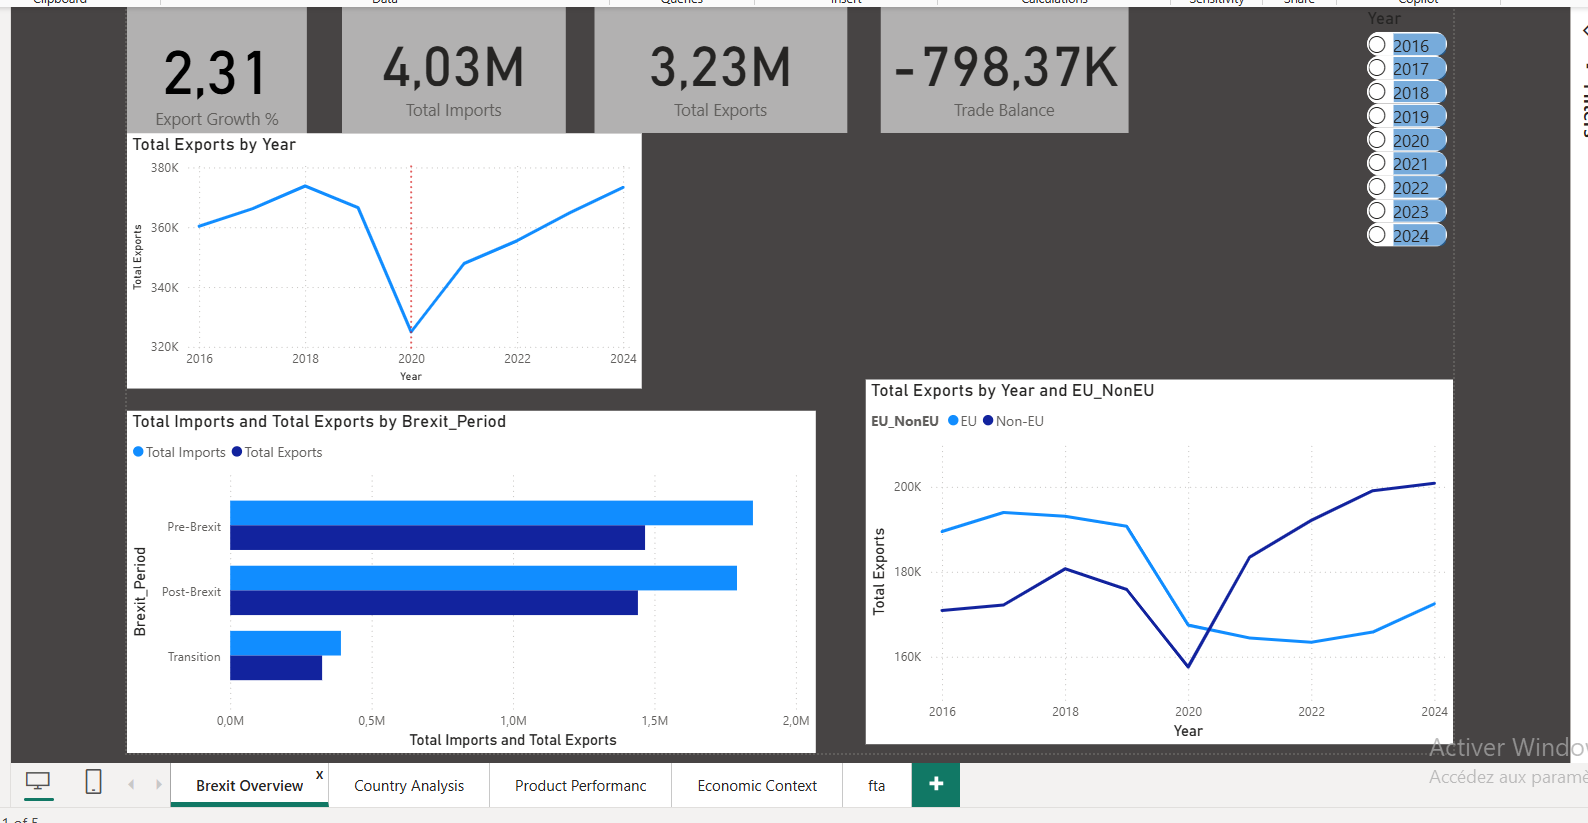

The page's visual inventory and layout, read from the dashboard file:
{"tool":"powerbi","page":{"name":"Brexit Overview","canvas":[1280,720],"ordinal":0},"visuals":[{"type":"card","fields":{"Values":["richlist table1_trade_by_country.Export Growth %"]},"box":[0,0,173.7,121.9],"z":0},{"type":"card","fields":{"Values":["richlist table1_trade_by_country.Total Exports"]},"box":[676.8,1.2,243.7,121.9],"z":1000},{"type":"card","fields":{"Values":["richlist table1_trade_by_country.Total Imports"]},"box":[347.5,1.2,216,121.9],"z":2000},{"type":"card","fields":{"Values":["richlist table1_trade_by_country.Trade Balance"]},"box":[1041.2,0,238.9,121.9],"z":3000},{"type":"lineChart","fields":{"Category":["richlist table1_trade_by_country.Year"],"Y":["richlist table1_trade_by_country.Total Exports"]},"box":[0,143.6,798.7,246.1],"z":4000},{"type":"lineChart","fields":{"Category":["richlist table1_trade_by_country.Year"],"Y":["richlist table1_trade_by_country.Total Exports"],"Series":["richlist table1_trade_by_country.EU_NonEU"]},"box":[713,411.4,567,308.8],"z":5000},{"type":"clusteredBarChart","fields":{"Category":["richlist table1_trade_by_country.Brexit_Period"],"Y":["richlist table1_trade_by_country.Total Imports","richlist table1_trade_by_country.Total Exports"]},"box":[0,411.4,664.7,308.8],"z":6000},{"type":"listSlicer","fields":{"Values":["richlist table1_trade_by_country.Year"]},"box":[1029.1,144.8,118.2,244.9],"z":7000}]}

Visuals, with their boxes on the page's 1280x720 design canvas (x1, y1, x2, y2). These are canvas units, not pixel positions in the 1588x823 screenshot, which may show the page scaled, cropped or inside an application window:
card - richlist table1_trade_by_country.Export Growth %: [0,0,174,122]
card - richlist table1_trade_by_country.Total Exports: [677,1,920,123]
card - richlist table1_trade_by_country.Total Imports: [348,1,564,123]
card - richlist table1_trade_by_country.Trade Balance: [1041,0,1280,122]
lineChart - richlist table1_trade_by_country.Year x richlist table1_trade_by_country.Total Exports: [0,144,799,390]
lineChart - richlist table1_trade_by_country.Year x richlist table1_trade_by_country.Total Exports: [713,411,1280,720]
clusteredBarChart - richlist table1_trade_by_country.Brexit_Period x richlist table1_trade_by_country.Total Imports: [0,411,665,720]
listSlicer - richlist table1_trade_by_country.Year: [1029,145,1147,390]
